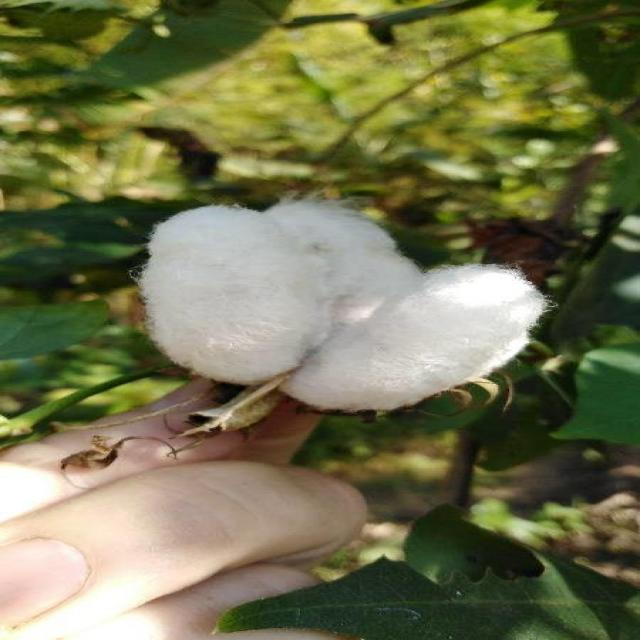Early_blight: (118, 179, 582, 433)
